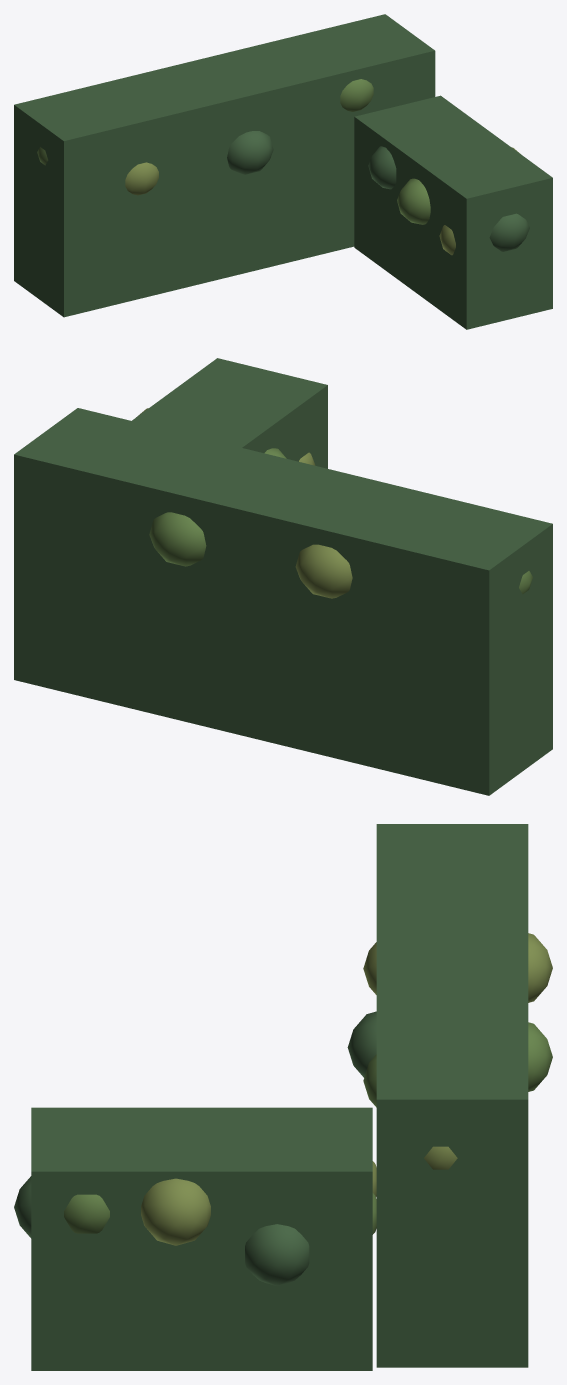
3 renders of one model, top to bottom at view 1: azimuth 30°, elevation 25°; view 2: azimuth 150°, elevation 25°; view 3: azimuth 270°, elevation 25°, orthographic. The views are drawn at different scales.
Parts seen in each view (by area): view 1: climb-hedge-0-0, climb-hedge-0-1, 생울타리 01; view 2: climb-hedge-0-0, climb-hedge-0-1, 생울타리 01; view 3: climb-hedge-0-0, climb-hedge-0-1, 생울타리 01.
Boxes of the visible parts, x1,y1,x2,y2 form: climb-hedge-0-0: [14, 14, 435, 317]; climb-hedge-0-1: [354, 95, 552, 329]; 생울타리 01: [37, 79, 529, 255]; climb-hedge-0-0: [14, 408, 552, 795]; climb-hedge-0-1: [132, 358, 327, 468]; 생울타리 01: [136, 408, 532, 598]; climb-hedge-0-0: [376, 824, 528, 1367]; climb-hedge-0-1: [31, 1107, 372, 1370]; 생울타리 01: [14, 933, 552, 1285].
Size of the model in its own units: 4.61 by 1.95 by 3.55.
